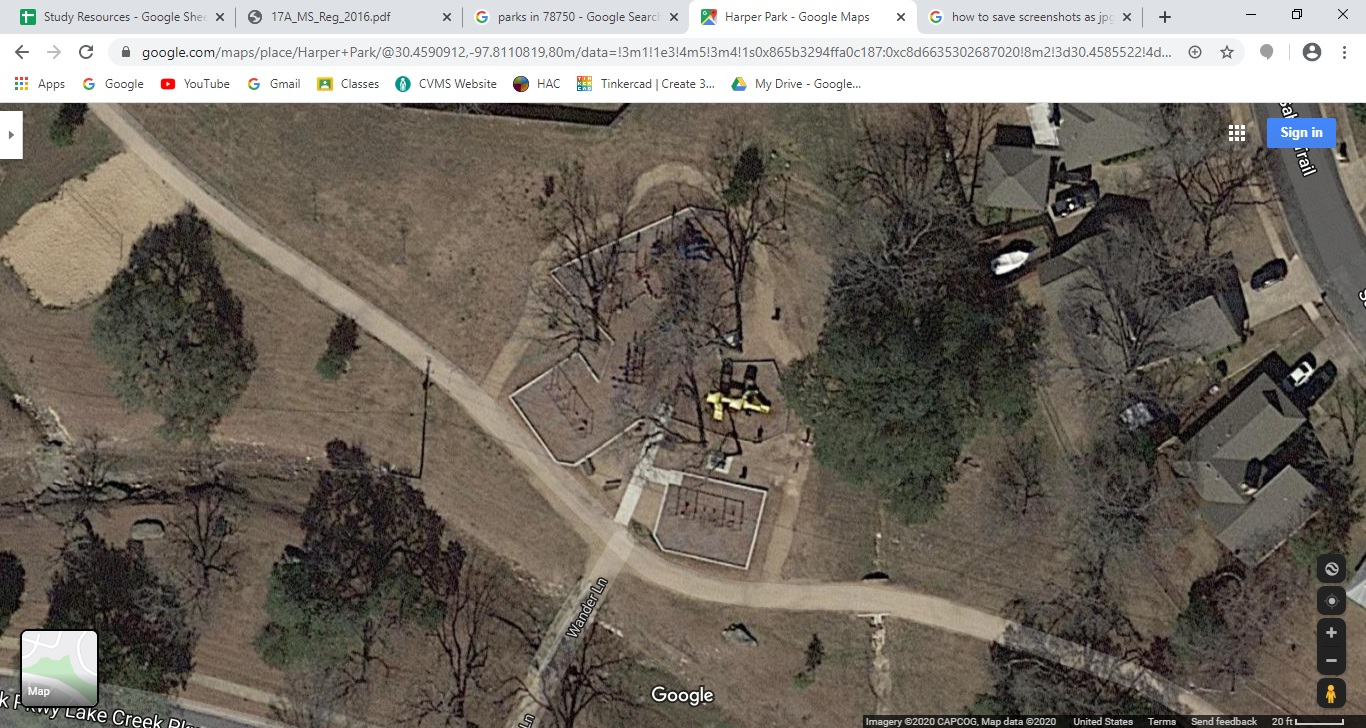playscape: (530, 221, 928, 574)
